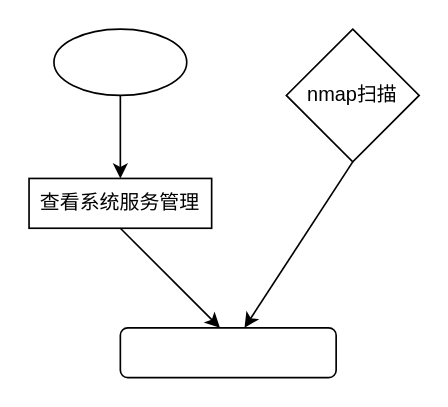
The diagram is 448 pixels wide and 407 high, and some of its shapes have lost their labels. Each missing label, with the box of its shape:
对比服务端口是否一致: (119, 326, 336, 378)
登录: (52, 27, 187, 95)
